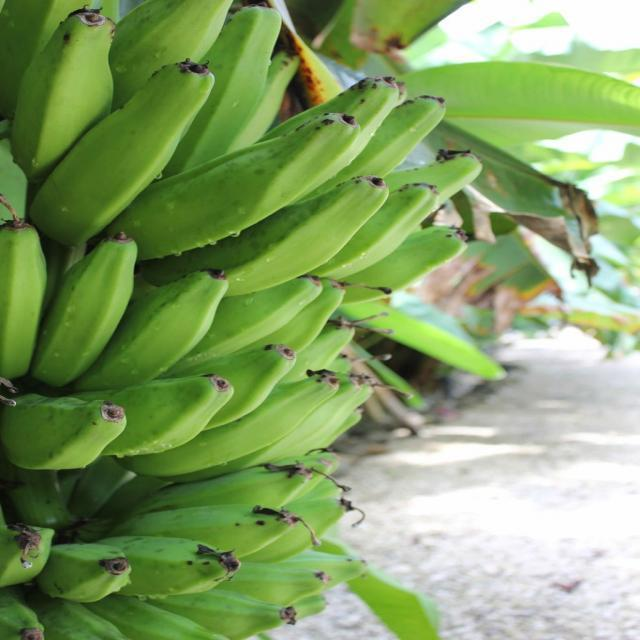Banana: (0, 0, 485, 640), (25, 229, 130, 384)
